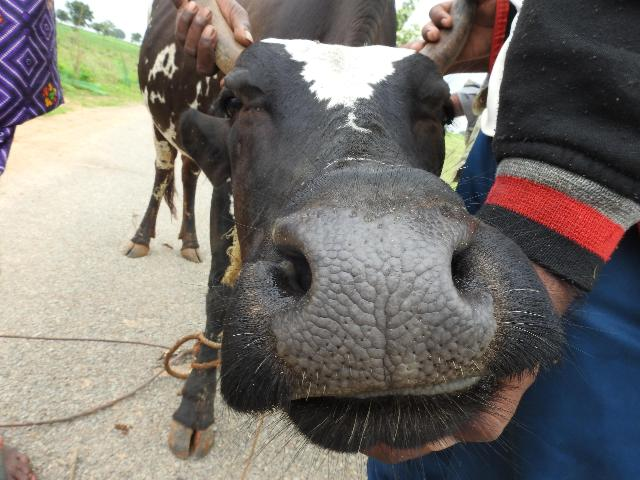Muzzle: (296, 216, 462, 394)
